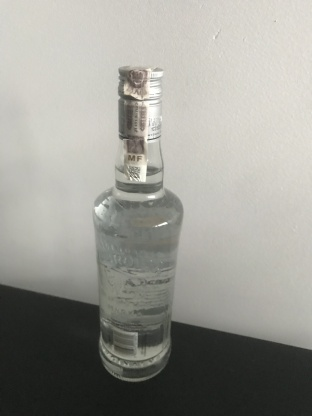nakretka: (116, 64, 165, 144)
